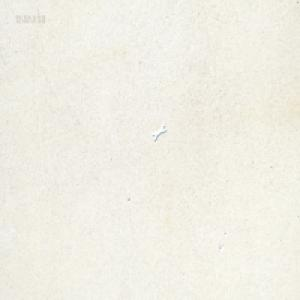Wrench: (152, 124, 166, 141)
